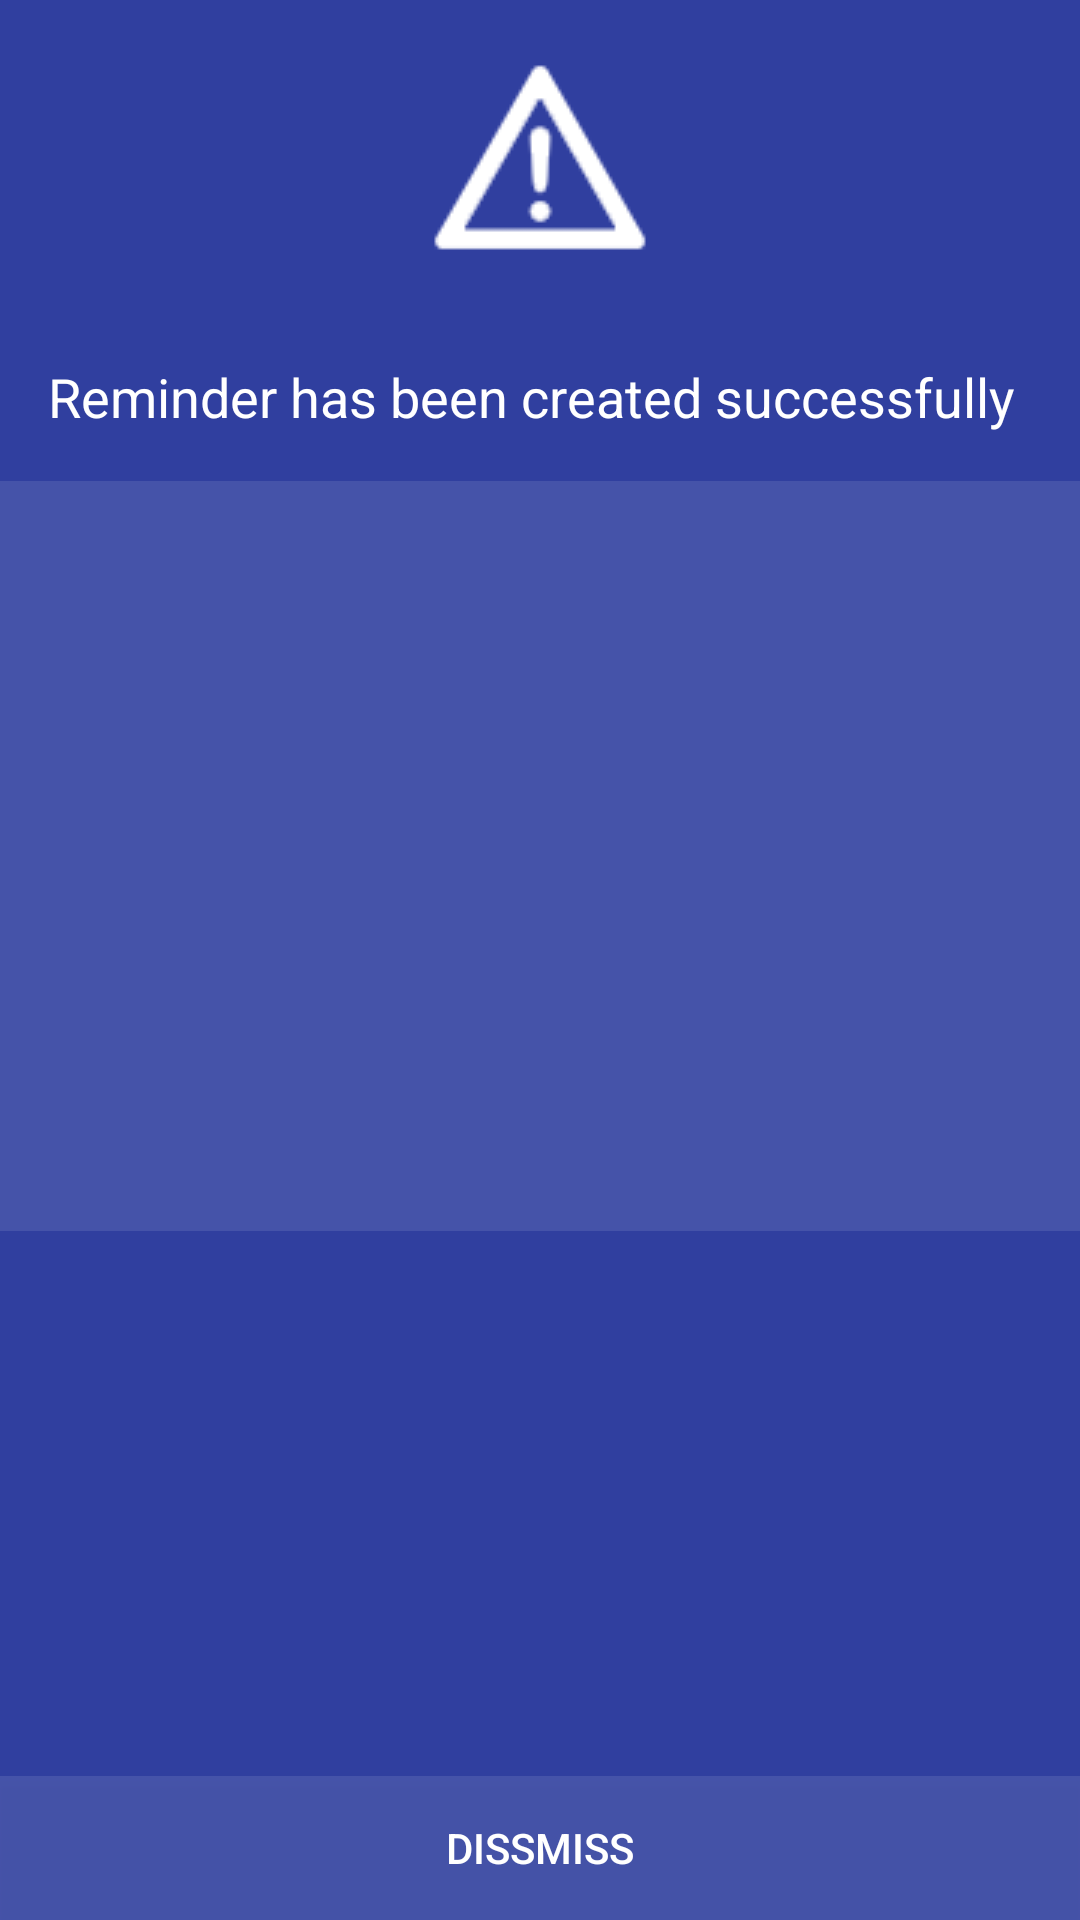

Icons on this 1080×1920 Android screen, each with its box as bbox(x1, y1, x2, y2):
warning: bbox(434, 65, 646, 250)
